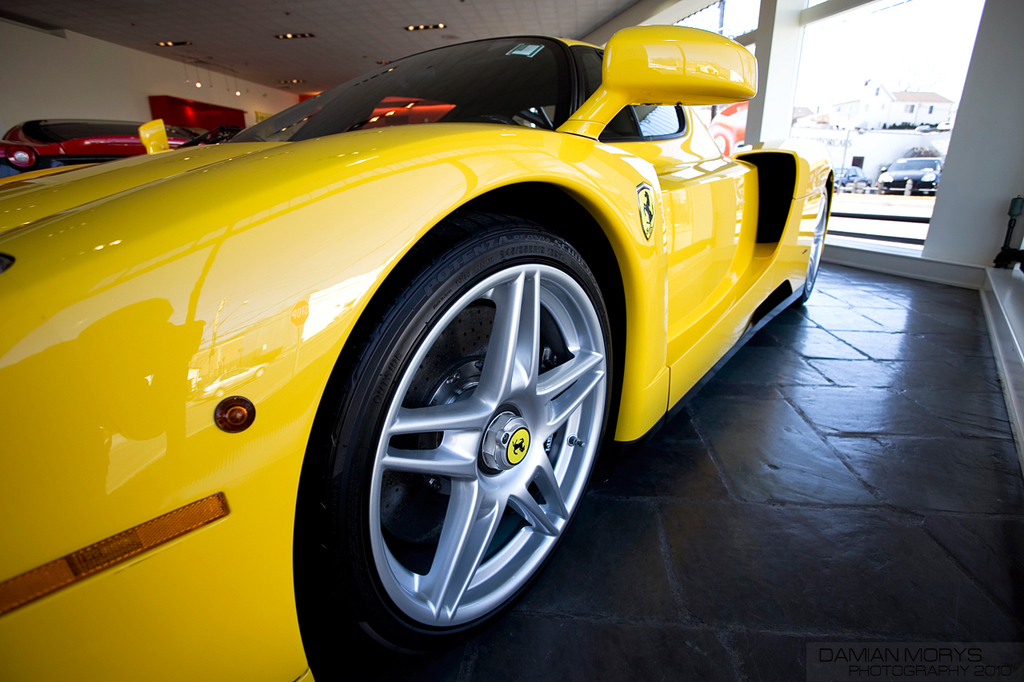Car: (0, 0, 834, 681), (871, 155, 944, 195)
